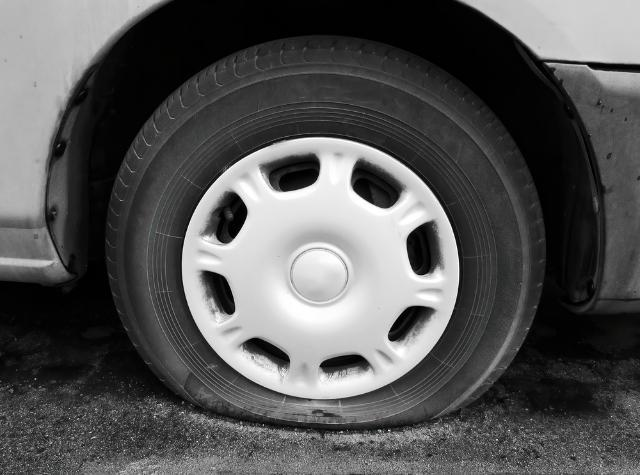tire flat: (106, 35, 547, 431)
